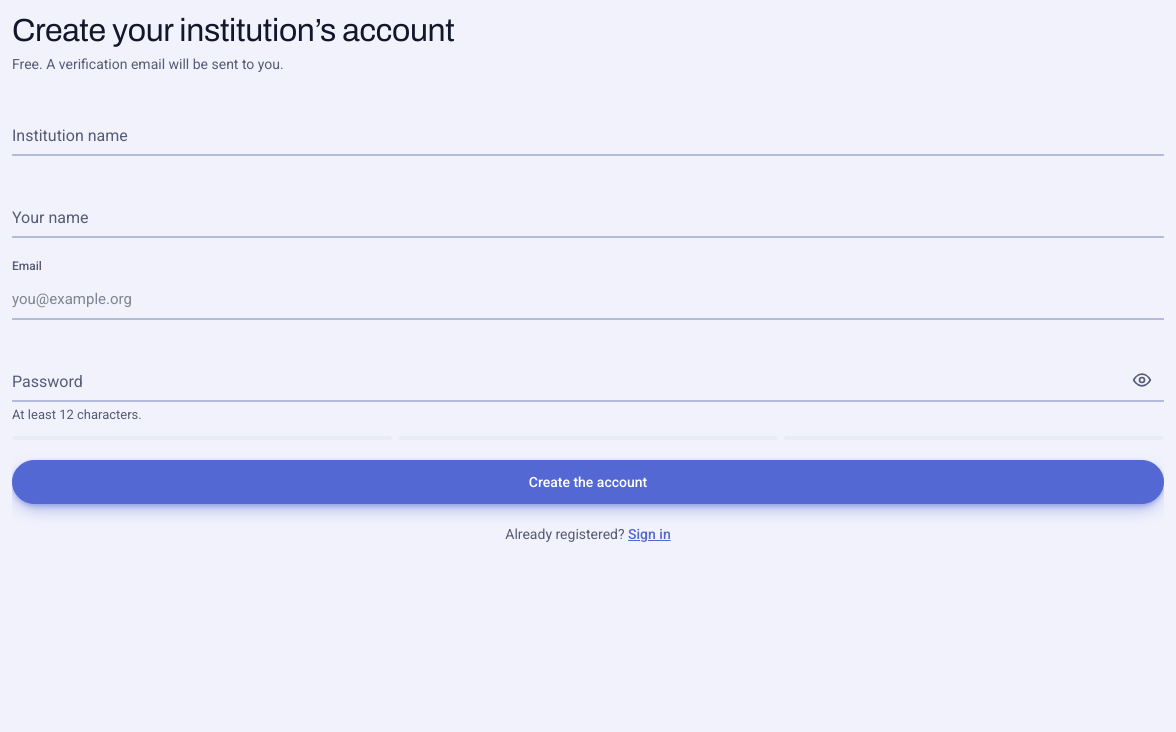
Test case: RegisterForm › turns a network failure into a message
Type "Collège" into the field with test id "register-institution-name" at (588, 134), box x1=12 y1=112 x2=1164 y2=156
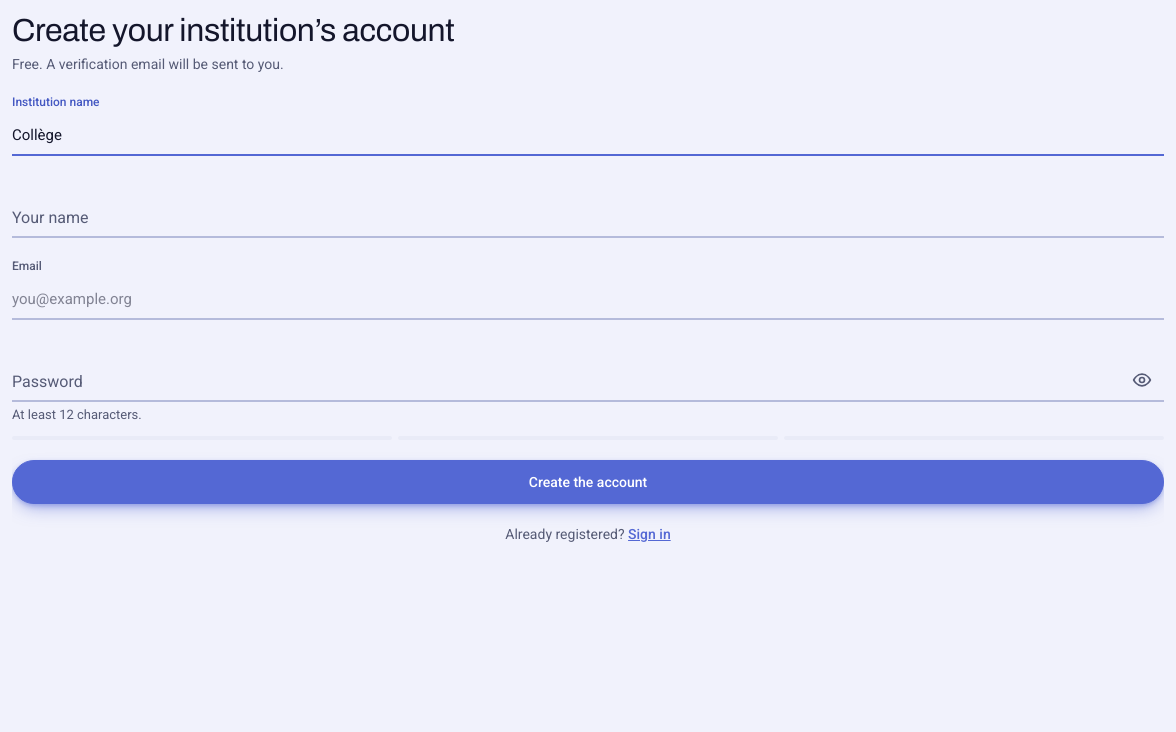
Type "Marie" into the field with test id "register-name" at (588, 216), box x1=12 y1=194 x2=1164 y2=238
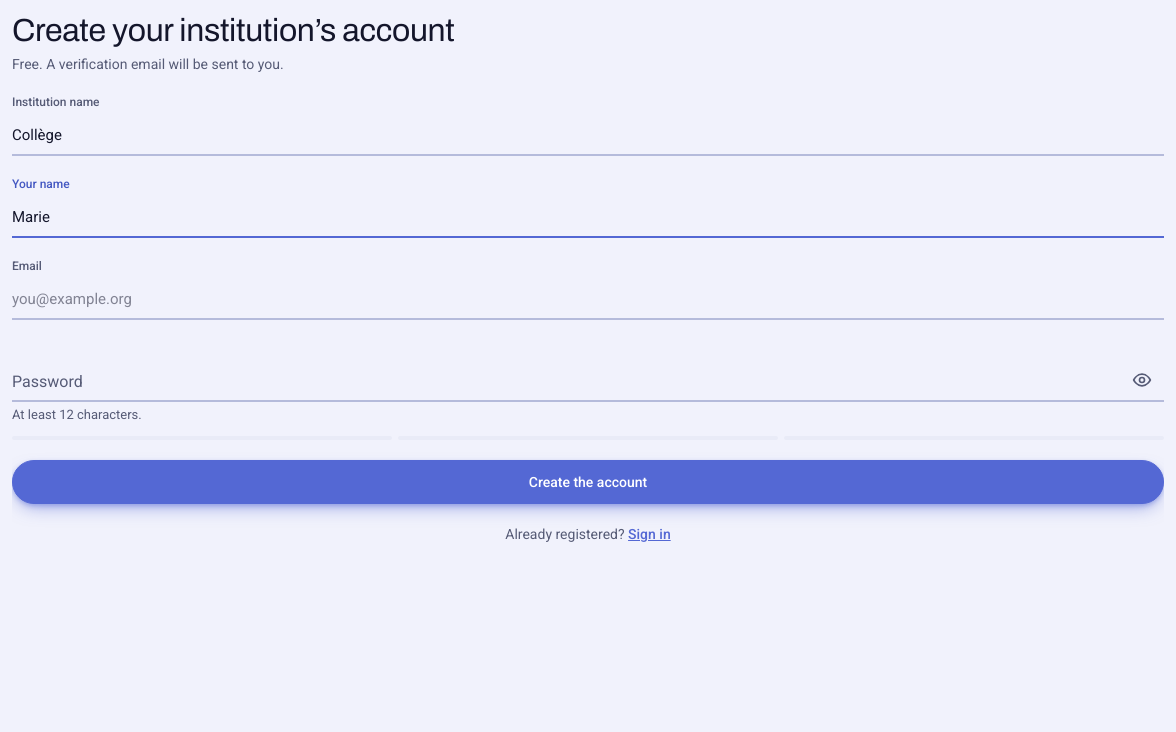
Type "marie@example.test" into the field with test id "register-email" at (588, 298), box x1=12 y1=276 x2=1164 y2=320
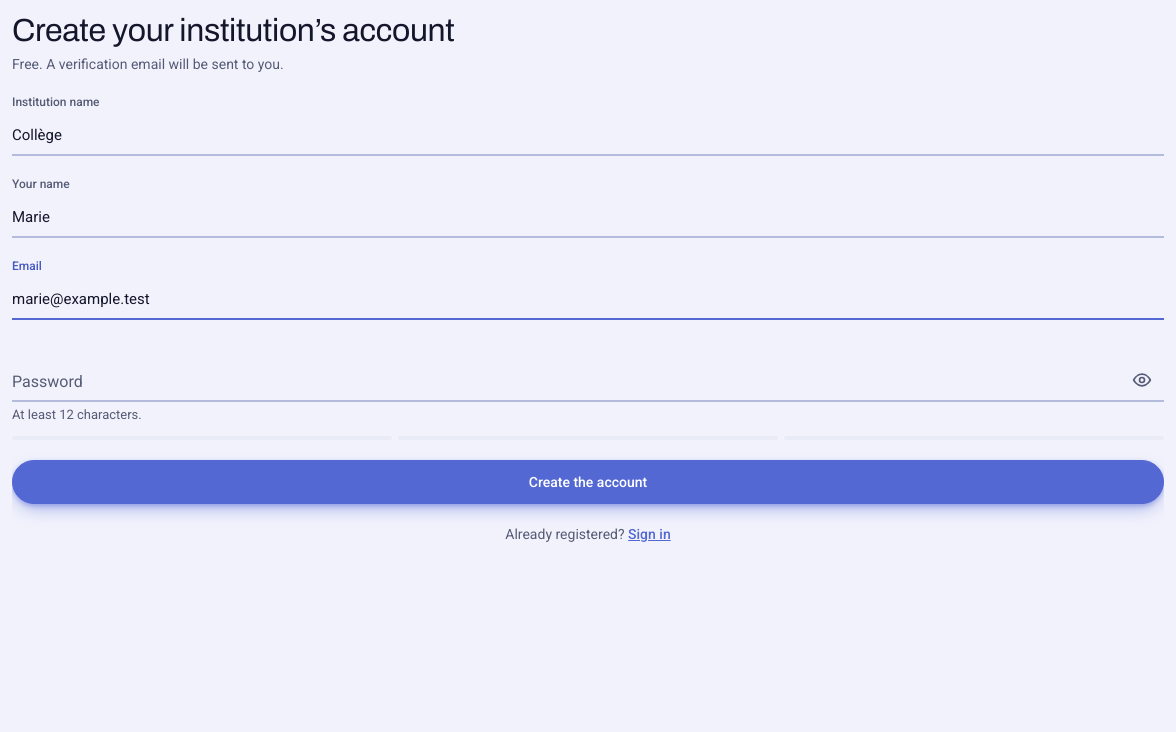
Type "a long enough password" into the password field with test id "register-password" at (588, 380), box x1=12 y1=358 x2=1164 y2=402
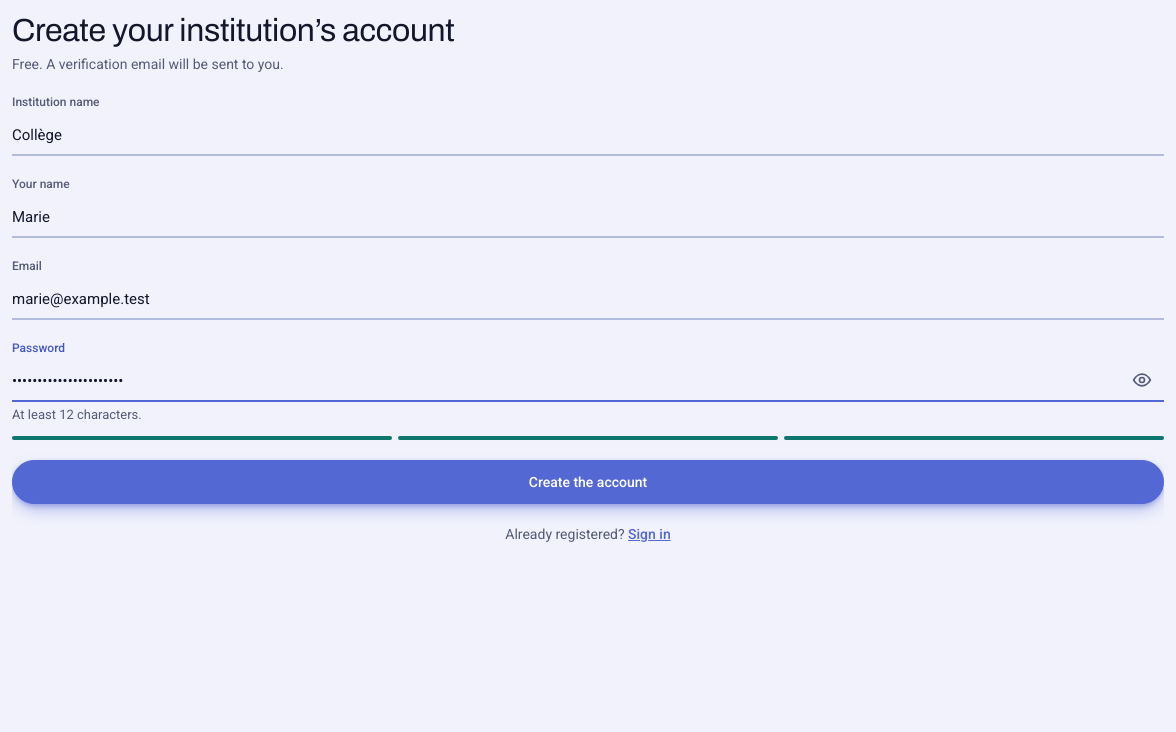
Click the button with test id "register-submit" at (588, 482), box x1=12 y1=460 x2=1164 y2=504
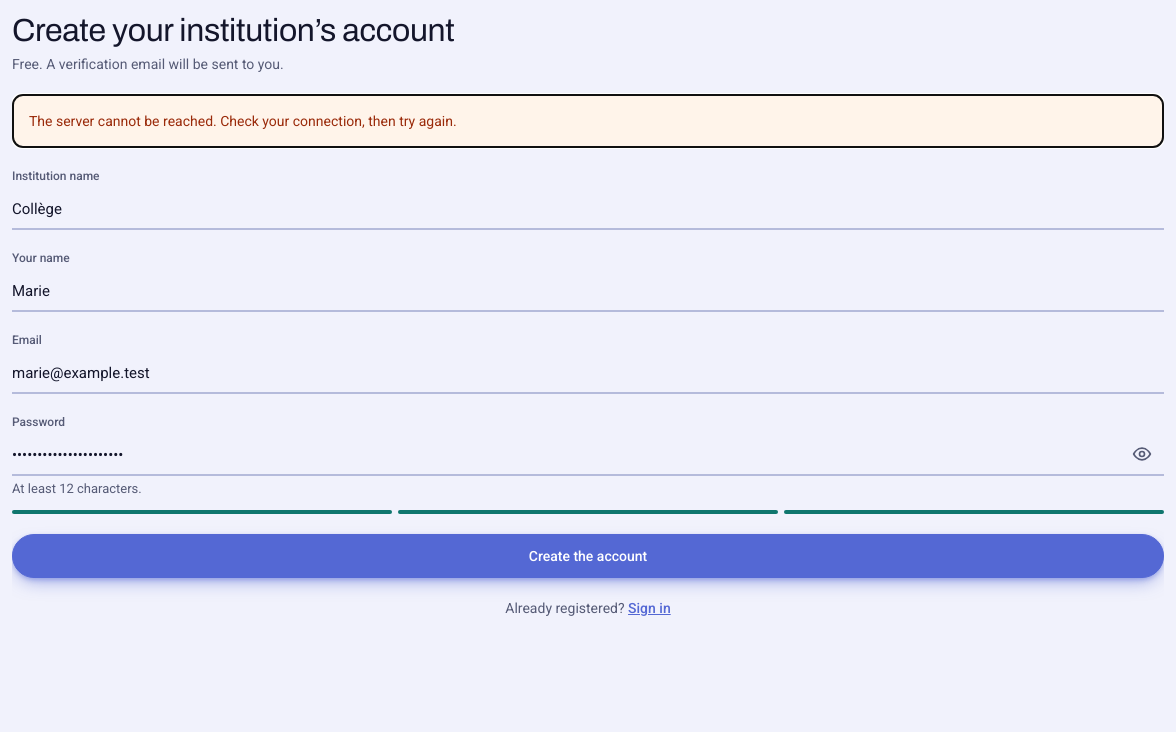
Now the message shows "cannot be reached", box x1=29 y1=113 x2=457 y2=129
